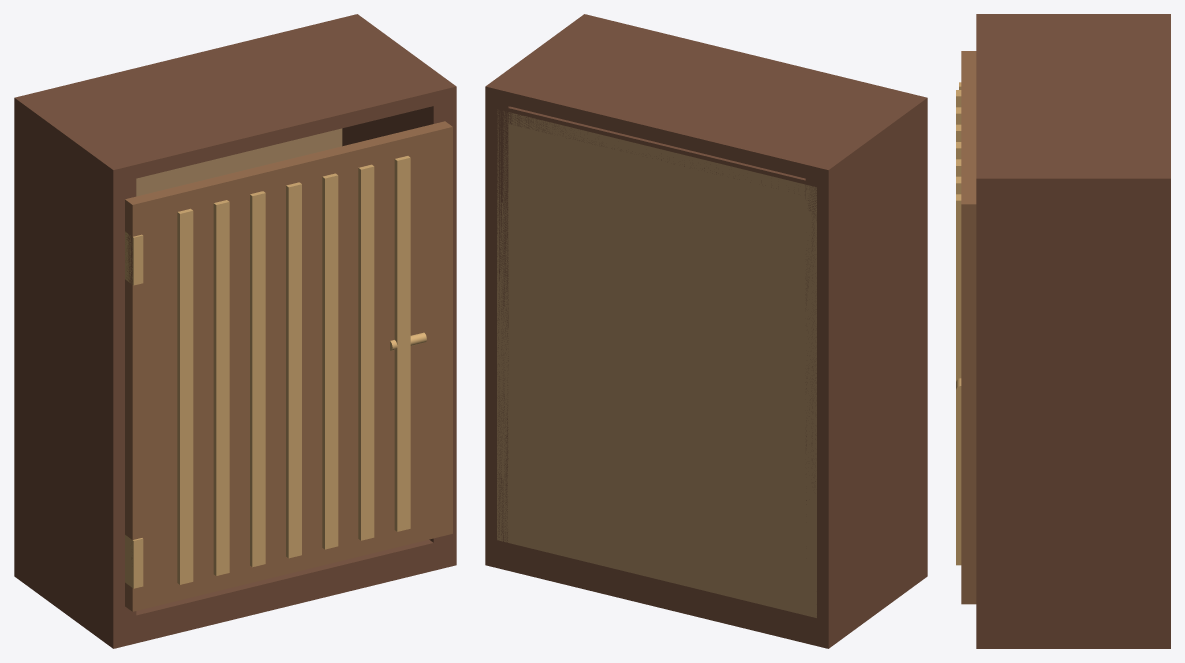
3 renders of one model, left to right at view 1: azimuth 30°, elevation 25°; view 2: azimuth 150°, elevation 25°; view 3: azimuth 270°, elevation 25°, orthographic.
Visible parts, largest first — view 1: cabinet-door-leaf, cabinet-side-left, cabinet-top, cabinet-bottom, door-slat-6, door-slat-1, door-slat-5, door-slat-2, door-slat-7, door-slat-4, door-slat-3, cabinet-side-right (+3 smaller); view 2: cabinet-inner-back, cabinet-side-left, cabinet-top, cabinet-bottom, cabinet-side-right, cabinet-back-rail; view 3: cabinet-side-right, cabinet-top, cabinet-door-leaf, cabinet-bottom, door-slat-7.
Part boxes in pixels (left/top/right/bottom): cabinet-door-leaf: left=125, top=121, right=452, bottom=611; cabinet-side-left: left=14, top=110, right=136, bottom=628; cabinet-top: left=14, top=14, right=456, bottom=183; cabinet-bottom: left=14, top=537, right=456, bottom=648; door-slat-6: left=358, top=164, right=374, bottom=540; door-slat-1: left=177, top=208, right=193, bottom=584; door-slat-5: left=322, top=173, right=338, bottom=549; door-slat-2: left=213, top=200, right=229, bottom=575; door-slat-7: left=394, top=156, right=410, bottom=531; door-slat-4: left=286, top=182, right=301, bottom=558; door-slat-3: left=250, top=191, right=265, bottom=567; cabinet-side-right: left=342, top=100, right=456, bottom=549; cabinet-inner-back: left=497, top=109, right=816, bottom=617; cabinet-side-left: left=805, top=110, right=927, bottom=628; cabinet-top: left=485, top=14, right=927, bottom=183; cabinet-bottom: left=485, top=537, right=927, bottom=648; cabinet-side-right: left=485, top=98, right=509, bottom=550; cabinet-back-rail: left=497, top=106, right=816, bottom=197; cabinet-side-right: left=976, top=190, right=1170, bottom=629; cabinet-top: left=976, top=14, right=1170, bottom=192; cabinet-door-leaf: left=961, top=51, right=976, bottom=604; cabinet-bottom: left=976, top=621, right=1170, bottom=648; door-slat-7: left=956, top=194, right=961, bottom=565.
Bounding box in the file's own units: 0.9 × 1.2 × 0.497.
